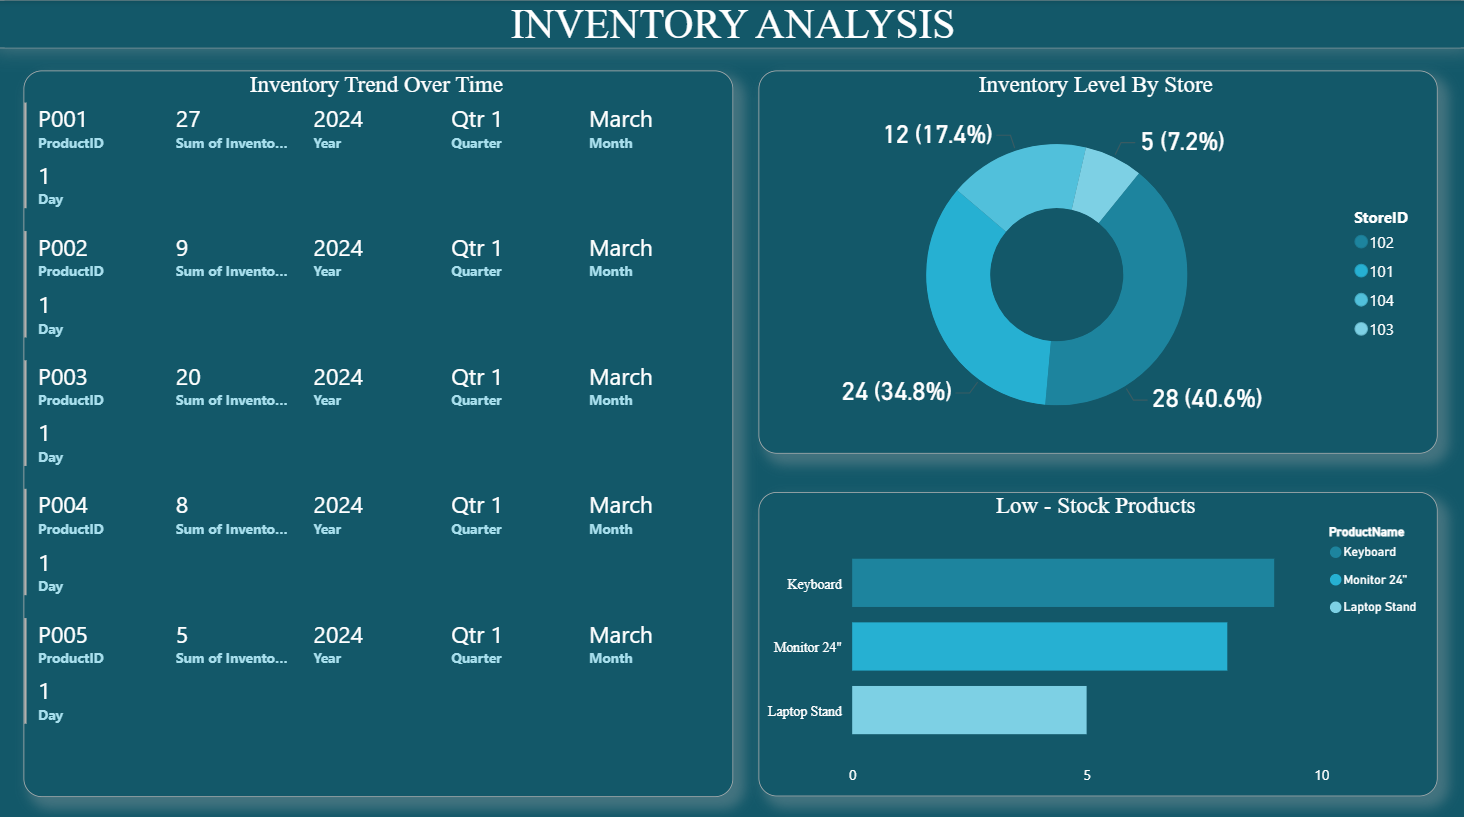

This screenshot's page, from the dashboard's own definition file:
{"tool":"powerbi","page":{"name":"Page 2","canvas":[1280,720],"ordinal":1},"visuals":[{"type":"barChart","title":"Low - Stock Products","fields":{"Category":["Products.ProductName"],"Y":["Sum(Inventory.InventoryCount)"],"Series":["Products.ProductName"]},"box":[663.3,429.5,591.7,265.6],"z":0},{"type":"multiRowCard","title":"Inventory Trend Over Time","fields":{"Values":["Inventory.ProductID","Sum(Inventory.InventoryCount)","Inventory.Date.Variation.Date Hierarchy.Year","Inventory.Date.Variation.Date Hierarchy.Quarter","Inventory.Date.Variation.Date Hierarchy.Month","Inventory.Date.Variation.Date Hierarchy.Day"]},"box":[22.3,62,618.7,633.1],"z":1000},{"type":"donutChart","title":"Inventory Level By Store","fields":{"Y":["Sum(Inventory.InventoryCount)"],"Category":["Stores.StoreID"]},"box":[663.3,62,591.7,334],"z":2000},{"type":"textbox","title":"INVENTORY ANALYSIS","box":[0,0,1280,42.3],"z":3000}]}

Visuals, with their boxes in screenshot pixels (x1, y1, x2, y2), scaled from the page's 1280x720 canvas onto the 1464x817 screenshot:
"Low - Stock Products" barChart: bbox=(759, 487, 1435, 789)
"Inventory Trend Over Time" multiRowCard: bbox=(26, 70, 733, 789)
"Inventory Level By Store" donutChart: bbox=(759, 70, 1435, 449)
"INVENTORY ANALYSIS" textbox: bbox=(0, 0, 1463, 48)
